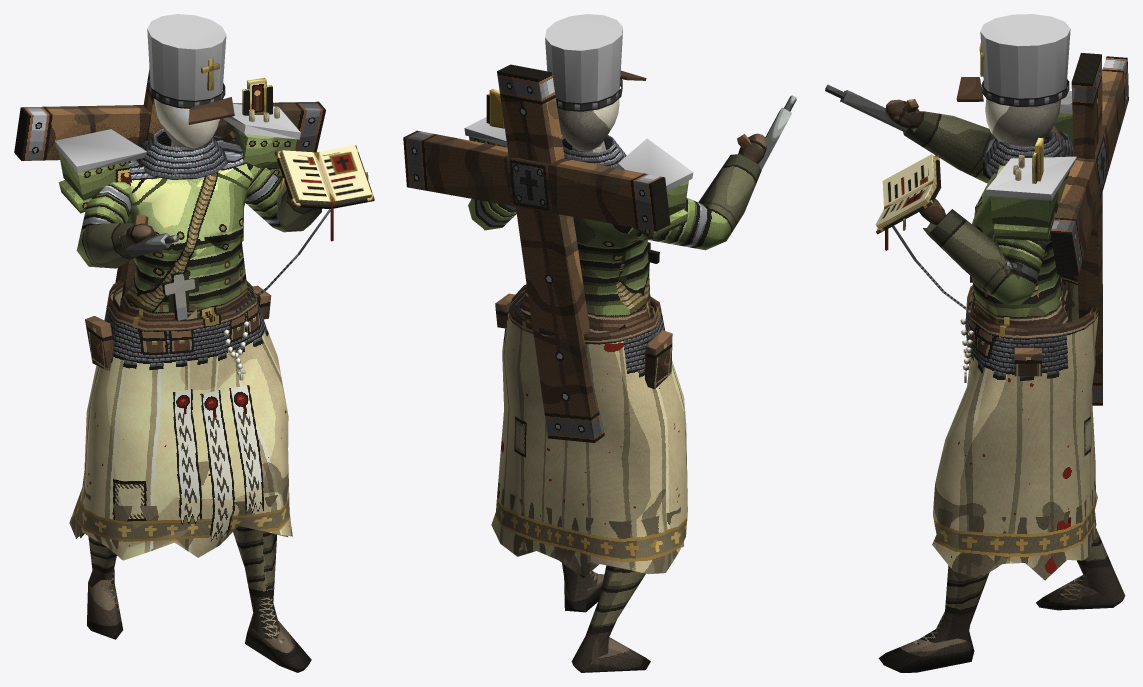
The model's file is trench-cleric.glb.
The picture shows the model from 3 angles, left to right: view 1: azimuth 30°, elevation 25°; view 2: azimuth 150°, elevation 25°; view 3: azimuth 270°, elevation 25°; orthographic projection. The views are drawn at different scales.
Parts seen in each view (by area): view 1: Robe, Body, Chest, Accent, Back, Weapon2, Helmet, Weapon; view 2: Robe, Back, Body, Accent, Chest, Weapon, Helmet; view 3: Robe, Body, Back, Accent, Chest, Weapon2, Helmet, Weapon.
Boxes of the visible parts, x1,y1,x2,y2 form: Robe: (69, 280, 292, 560); Body: (76, 99, 321, 672); Chest: (58, 78, 297, 380); Accent: (54, 14, 300, 173); Back: (14, 69, 325, 297); Weapon2: (236, 145, 374, 312); Helmet: (148, 58, 234, 124); Weapon: (125, 215, 179, 257); Robe: (491, 284, 687, 577); Back: (403, 64, 670, 442); Body: (468, 99, 766, 672); Accent: (464, 14, 693, 191); Chest: (469, 88, 688, 389); Weapon: (737, 95, 796, 169); Helmet: (556, 70, 646, 111); Robe: (932, 274, 1101, 580); Body: (878, 99, 1125, 672); Back: (1050, 53, 1128, 405); Accent: (980, 14, 1076, 200); Chest: (960, 112, 1073, 382); Weapon2: (875, 154, 971, 313); Helmet: (956, 42, 1069, 106); Weapon: (825, 84, 918, 131).
Size of the model in its own units: 0.5852 by 1.2 by 0.5394.
8 materials, 7 textured.
